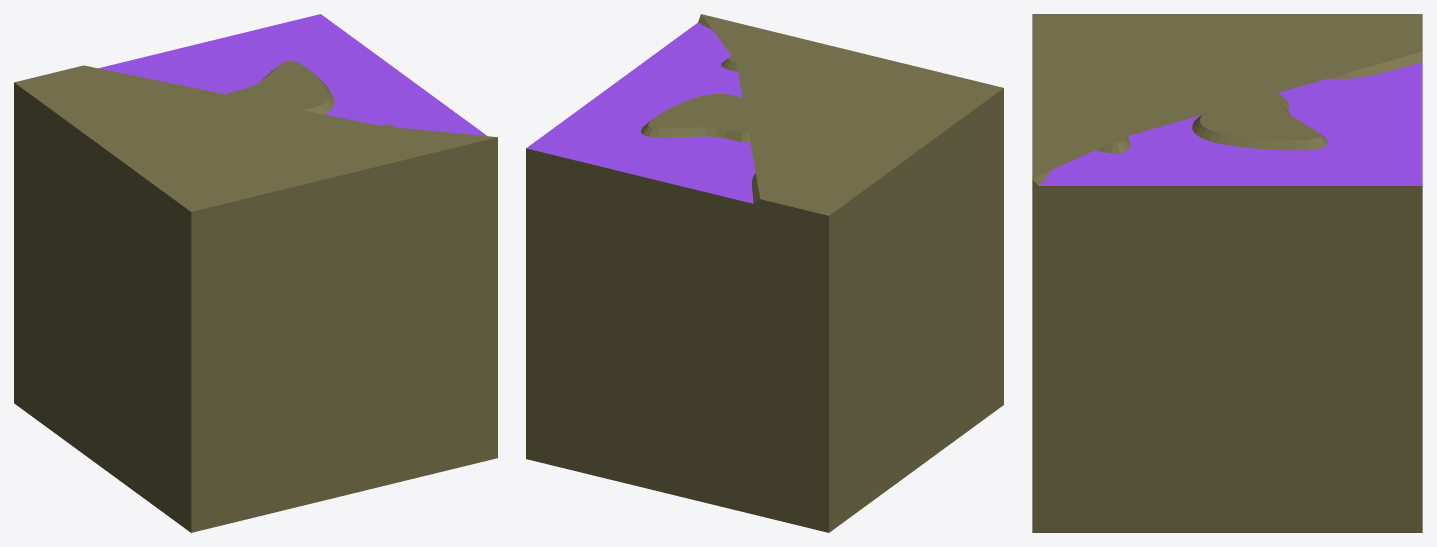
Rendered from tile_toxic_4d_03.fbx.
3 renders of one model, left to right at view 1: azimuth 30°, elevation 25°; view 2: azimuth 150°, elevation 25°; view 3: azimuth 270°, elevation 25°, orthographic. The views are drawn at different scales.
Parts seen in each view (by area): view 1: tile_toxic_4d_03; view 2: tile_toxic_4d_03; view 3: tile_toxic_4d_03.
Boxes of the visible parts, x1=… form: tile_toxic_4d_03: x1=14, y1=14, x2=497, y2=532; tile_toxic_4d_03: x1=526, y1=14, x2=1003, y2=532; tile_toxic_4d_03: x1=1032, y1=14, x2=1422, y2=532.
Size of the model in its own units: 100 by 100 by 100.
